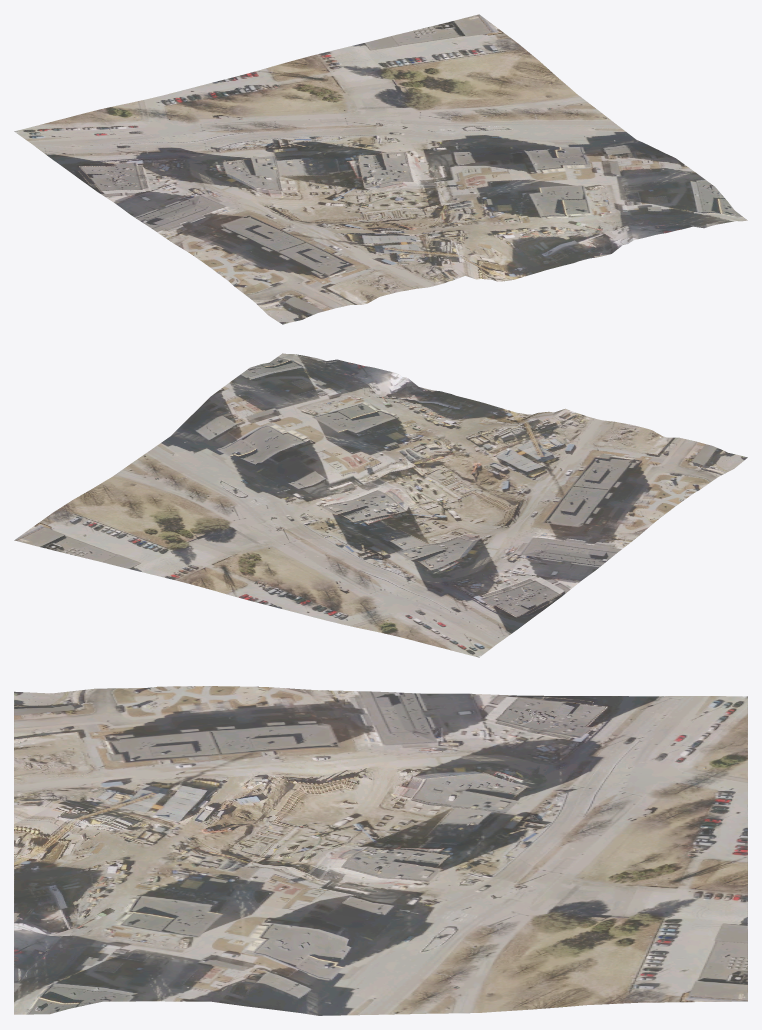
The model's file is CM_Terrain_24490049_6820408.fbx.
3 views of the same model, one above another, from view 1: azimuth 30°, elevation 25°; view 2: azimuth 150°, elevation 25°; view 3: azimuth 270°, elevation 25° (orthographic). The views are drawn at different scales.
Parts seen in each view (by area): view 1: CM_Terrain_24490049_6820408_LOD0; view 2: CM_Terrain_24490049_6820408_LOD0; view 3: CM_Terrain_24490049_6820408_LOD0.
Part boxes in pixels (x1=…): CM_Terrain_24490049_6820408_LOD0: x1=14, y1=14, x2=747, y2=324; CM_Terrain_24490049_6820408_LOD0: x1=14, y1=353, x2=747, y2=657; CM_Terrain_24490049_6820408_LOD0: x1=14, y1=686, x2=747, y2=1015.
Size of what is drawn, in the model's own units: 205 by 6.82 by 205.
